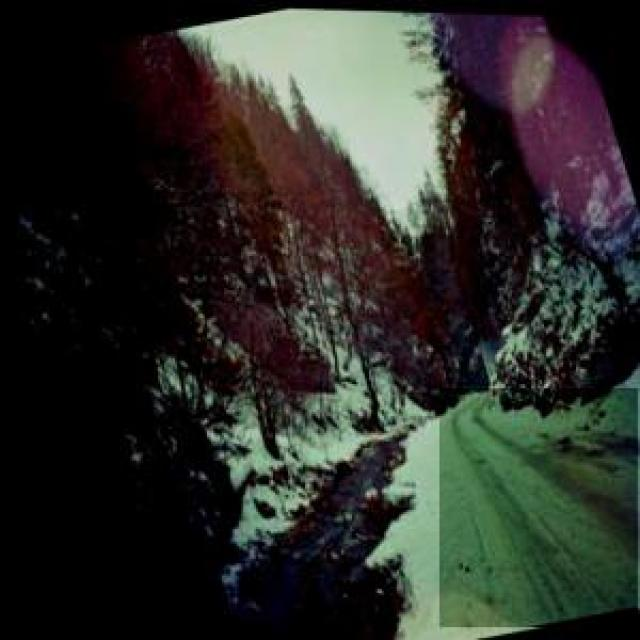ice-road: (441, 389, 640, 627)
